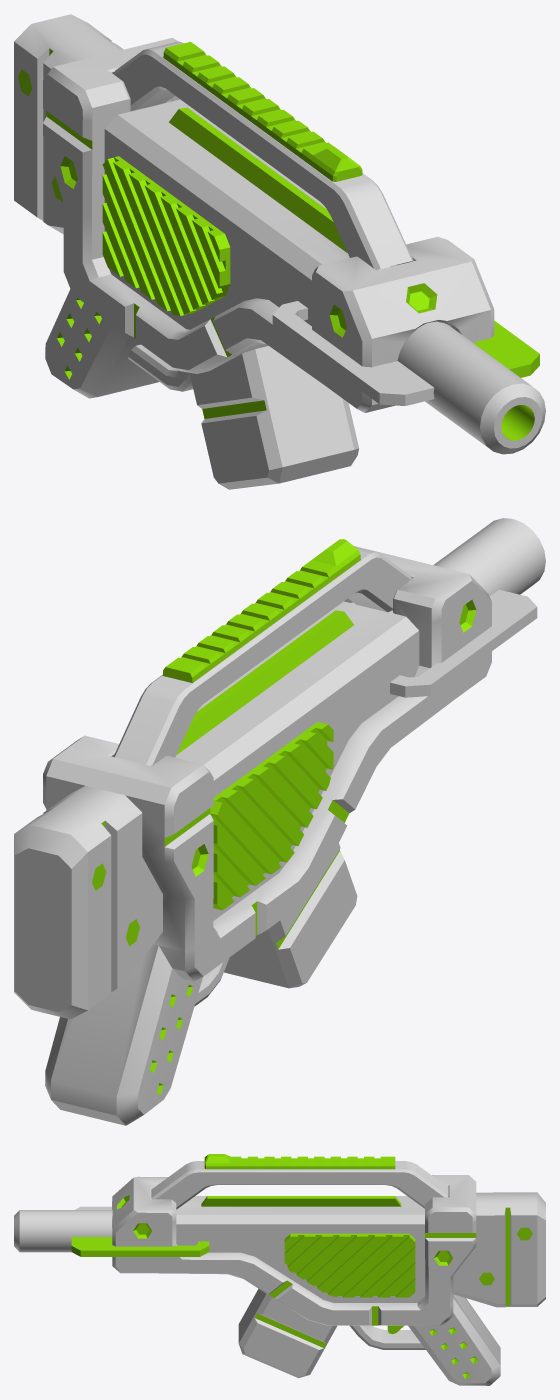
The model's file is Rifle E Mat.fbx.
3 views of the same model, one above another, from view 1: azimuth 30°, elevation 25°; view 2: azimuth 150°, elevation 25°; view 3: azimuth 270°, elevation 25° (orthographic). The views are drawn at different scales.
Parts seen in each view (by area): view 1: Rifle E Mat, Rifle E Mat.001; view 2: Rifle E Mat, Rifle E Mat.001; view 3: Rifle E Mat, Rifle E Mat.001.
Part boxes in pixels (x1,y1,x2,y2): Rifle E Mat: (14, 14, 545, 454); Rifle E Mat.001: (189, 346, 358, 489); Rifle E Mat: (14, 518, 545, 1125); Rifle E Mat.001: (224, 843, 357, 988); Rifle E Mat: (14, 1154, 545, 1385); Rifle E Mat.001: (238, 1288, 336, 1378).
Size of the model in its own units: 0.1891 by 0.4465 by 0.9713.
